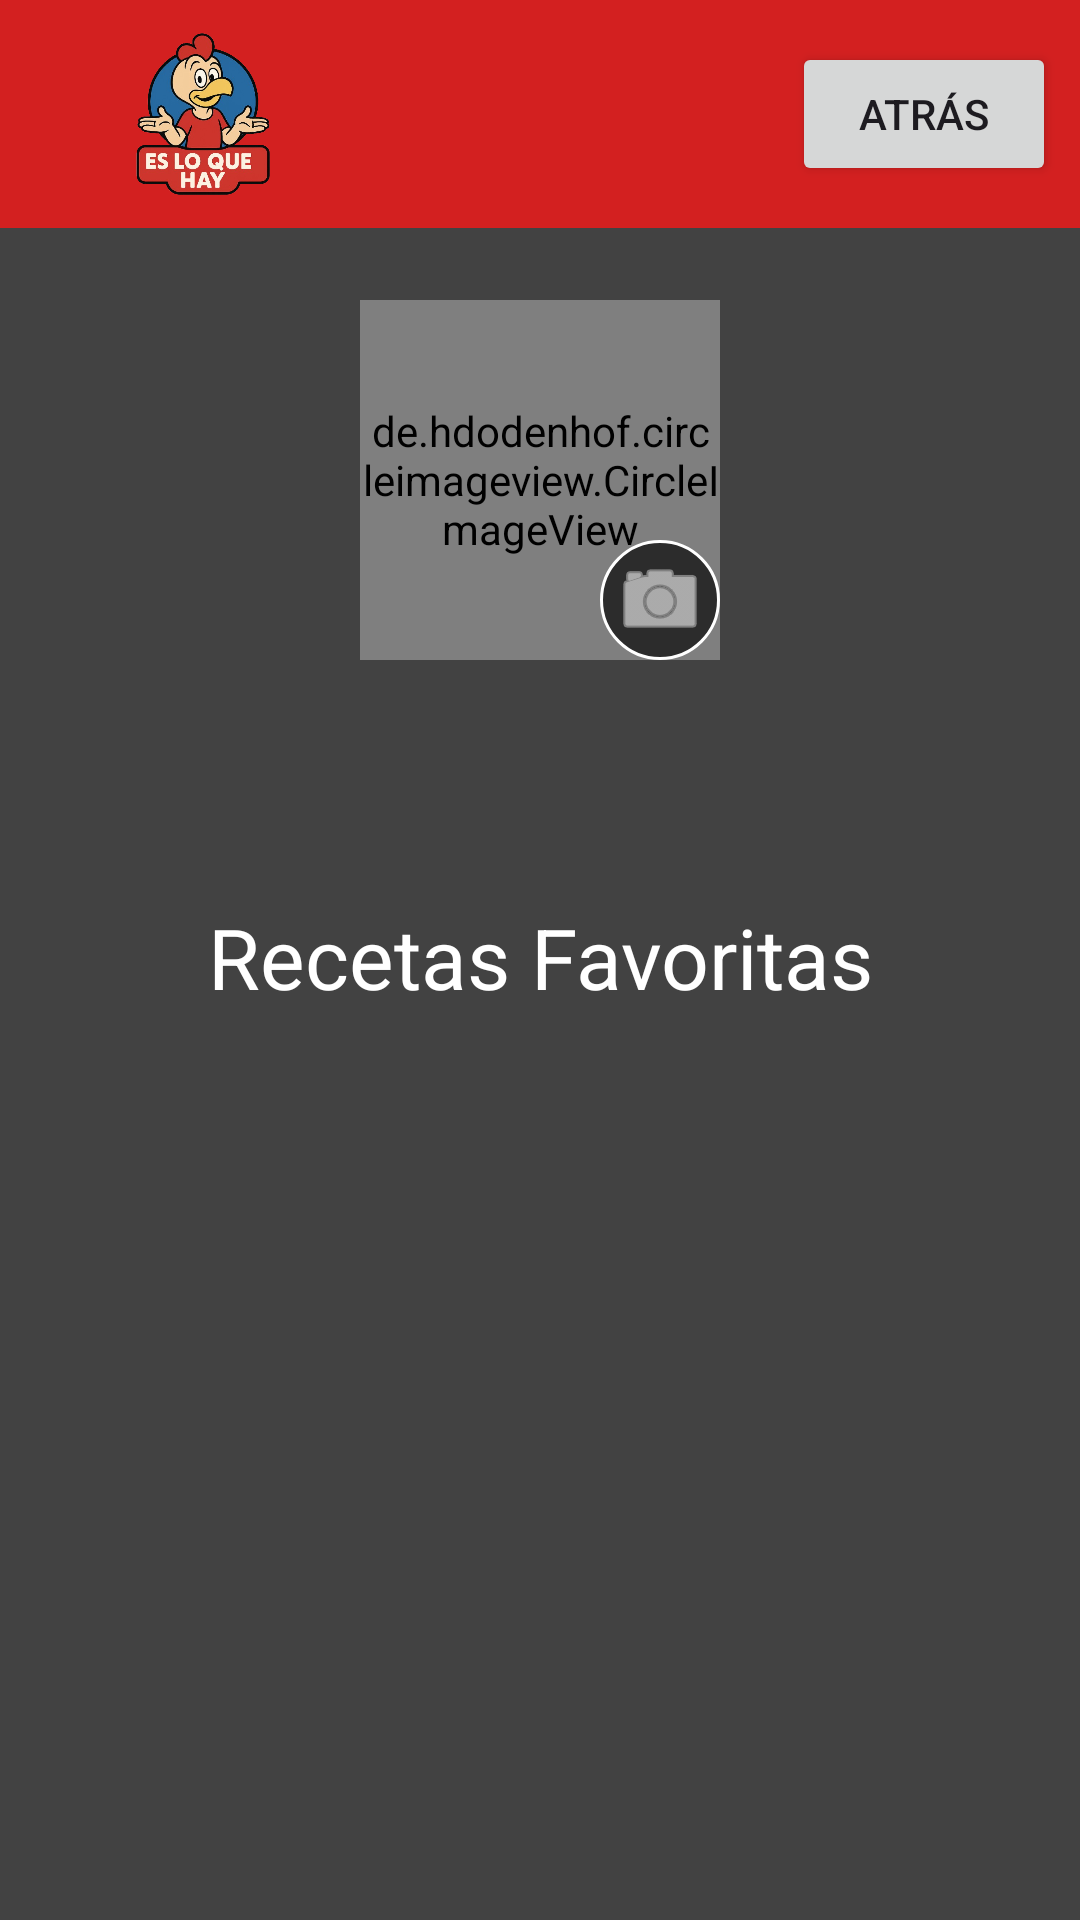

Screen size 1080x1920. Icon name, then its center in pixels as (x,y):
Cambiar foto de perfil: (660,600)
